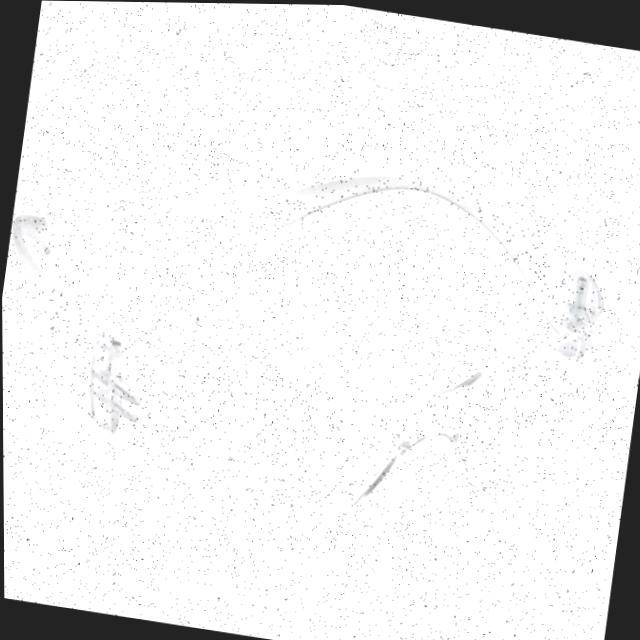goggles_on: (1, 105, 640, 577)
